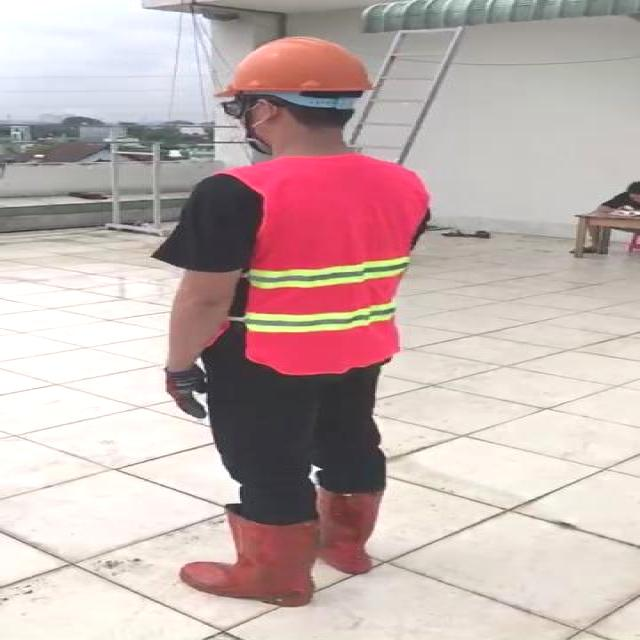boots: (180, 510, 326, 607), (318, 487, 391, 574)
hand_glove: (167, 365, 208, 419)
head_helmet: (215, 34, 370, 102)
person: (132, 38, 442, 610)
vest: (221, 156, 428, 376)
